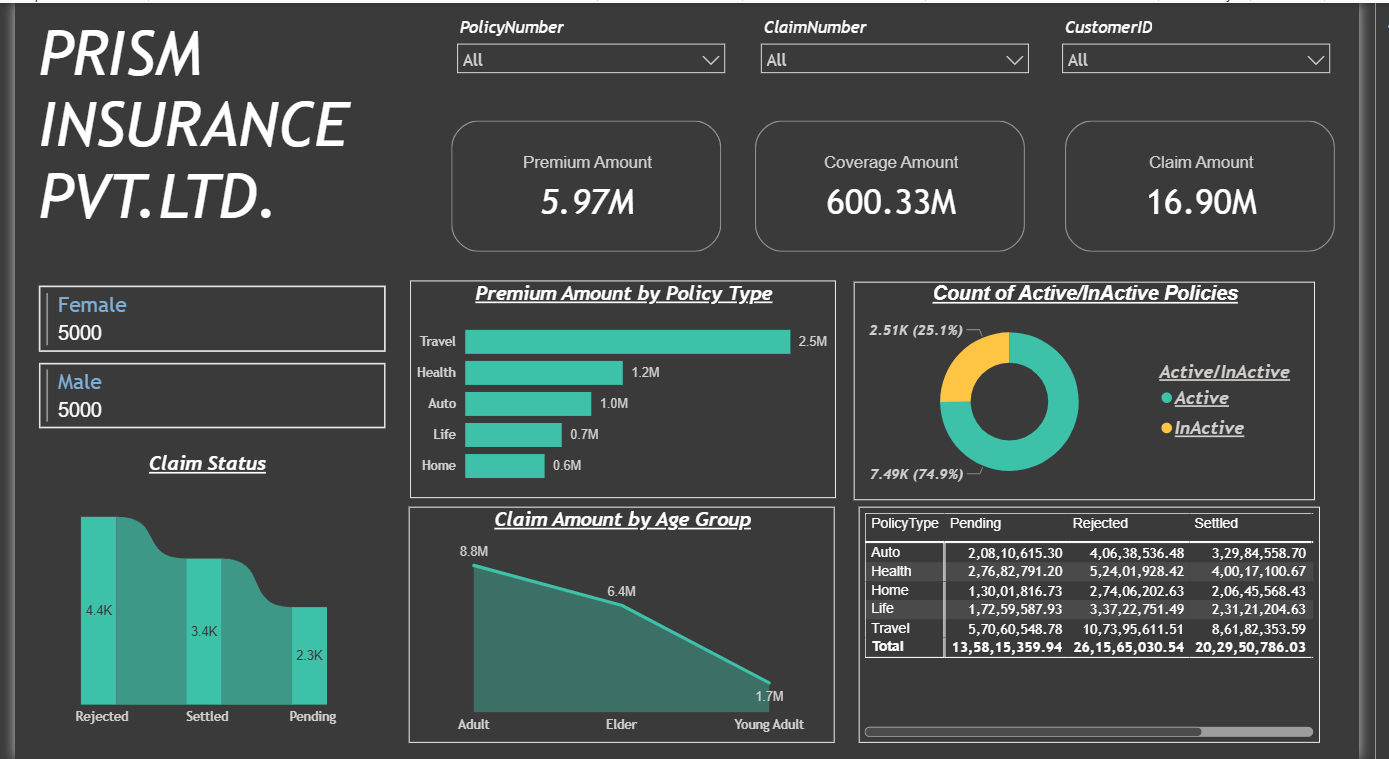

This screenshot's page, from the dashboard's own definition file:
{"tool":"powerbi","page":{"name":"Page 1","canvas":[1280,720],"ordinal":0},"visuals":[{"type":"slicer","fields":{"Values":["InsuranceData.PolicyNumber"]},"box":[410.3,8.2,275.8,74.1],"z":0},{"type":"textbox","box":[17.8,8.2,370.5,223.7],"z":1000},{"type":"slicer","fields":{"Values":["InsuranceData.CustomerID"]},"box":[986.6,8.2,275.8,74.1],"z":2000},{"type":"slicer","fields":{"Values":["InsuranceData.ClaimNumber"]},"box":[699.8,8.2,275.8,74.1],"z":3000},{"type":"cardVisual","fields":{"Data":["Sum(InsuranceData.PremiumAmount)"]},"box":[410.7,107.5,267.4,135.1],"z":4000},{"type":"cardVisual","fields":{"Data":["Sum(InsuranceData.ClaimAmount)"]},"box":[995,107.5,267.4,135.1],"z":5000},{"type":"cardVisual","fields":{"Data":["Sum(InsuranceData.CoverageAmount)"]},"box":[700.1,107.5,267.4,135.1],"z":6000},{"type":"multiRowCard","fields":{"Values":["InsuranceData.Gender","CountNonNull(InsuranceData.Gender)"]},"box":[17.9,264.6,340.4,162.6],"z":7000},{"type":"ribbonChart","title":"Claim Status","fields":{"Category":["InsuranceData.ClaimStatus"],"Y":["CountNonNull(InsuranceData.ClaimStatus)"]},"box":[17.9,427.4,331,269],"z":8000},{"type":"barChart","title":"Premium Amount by Policy Type","fields":{"Category":["InsuranceData.PolicyType"],"Y":["Sum(InsuranceData.PremiumAmount)"]},"box":[376.2,264.3,406,207.1],"z":9000},{"type":"lineChart","title":"Claim Amount by Age Group","fields":{"Category":["InsuranceData.Age Group"],"Y":["Sum(InsuranceData.ClaimAmount)"]},"box":[375,479.8,406,225],"z":10000},{"type":"donutChart","title":"Count of Active/InActive Policies","fields":{"Category":["InsuranceData.Active/InActive"],"Y":["CountNonNull(InsuranceData.Active/InActive)"]},"box":[798.8,265.5,439.3,208.3],"z":11000},{"type":"pivotTable","fields":{"Rows":["InsuranceData.PolicyType"],"Columns":["InsuranceData.ClaimStatus"],"Values":["Sum(InsuranceData.CoverageAmount)"]},"box":[803.6,479.8,439.3,225],"z":12000}]}

Visuals, with their boxes in screenshot pixels (x1, y1, x2, y2), scaled from the page's 1280x720 canvas onto the 1389x759 screenshot:
slicer - InsuranceData.PolicyNumber: (left=445, top=9, right=745, bottom=87)
textbox: (left=19, top=9, right=421, bottom=244)
slicer - InsuranceData.CustomerID: (left=1071, top=9, right=1370, bottom=87)
slicer - InsuranceData.ClaimNumber: (left=759, top=9, right=1059, bottom=87)
cardVisual - Sum(InsuranceData.PremiumAmount): (left=446, top=113, right=736, bottom=256)
cardVisual - Sum(InsuranceData.ClaimAmount): (left=1080, top=113, right=1370, bottom=256)
cardVisual - Sum(InsuranceData.CoverageAmount): (left=760, top=113, right=1050, bottom=256)
multiRowCard - InsuranceData.Gender x CountNonNull(InsuranceData.Gender): (left=19, top=279, right=389, bottom=450)
"Claim Status" ribbonChart: (left=19, top=451, right=379, bottom=734)
"Premium Amount by Policy Type" barChart: (left=408, top=279, right=849, bottom=497)
"Claim Amount by Age Group" lineChart: (left=407, top=506, right=848, bottom=743)
"Count of Active/InActive Policies" donutChart: (left=867, top=280, right=1344, bottom=499)
pivotTable - InsuranceData.PolicyType x InsuranceData.ClaimStatus: (left=872, top=506, right=1349, bottom=743)
